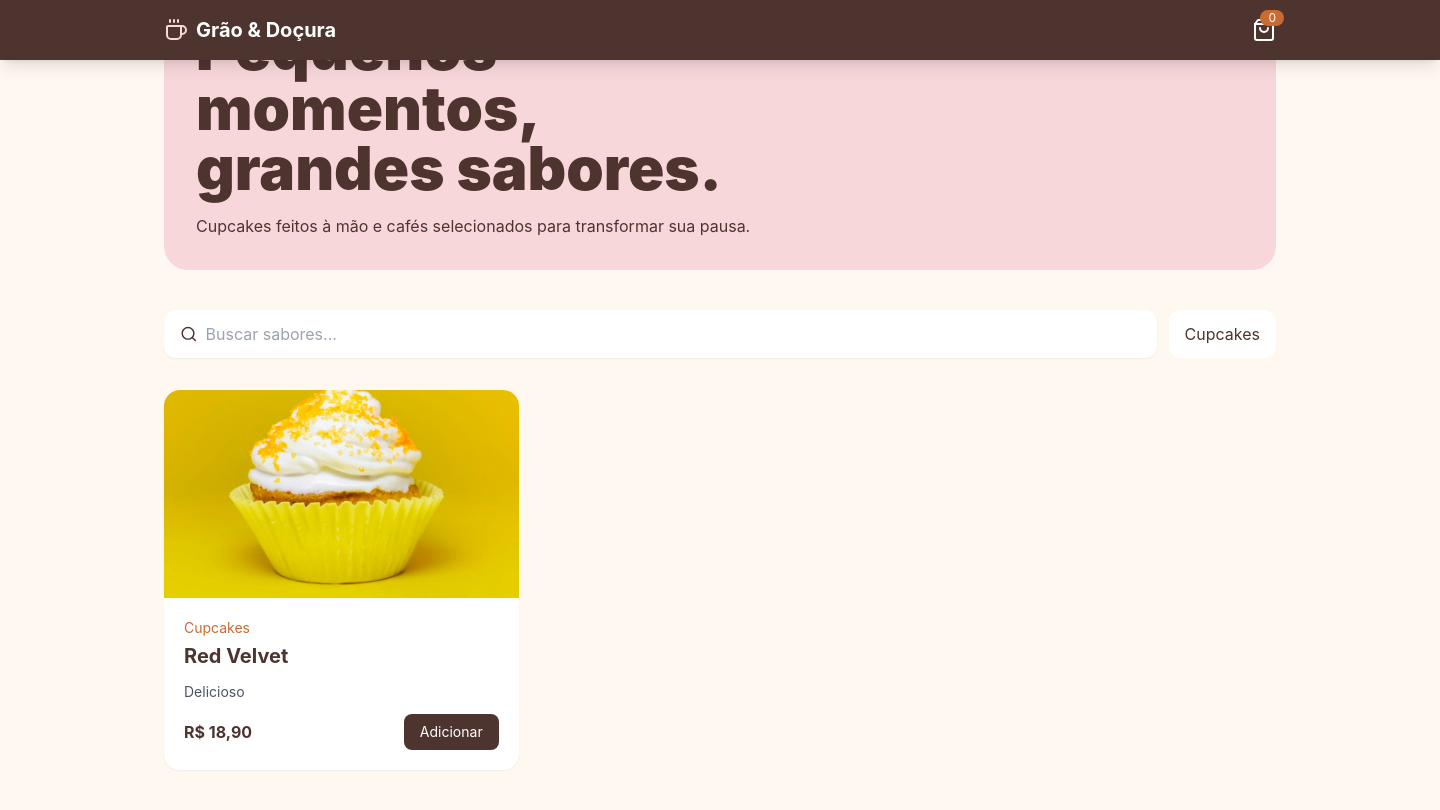
Scenario: customer storefront › changes and removes quantities from the cart
(page scrolled)
Click the button "Adicionar" at (451, 732), box [404, 714, 499, 750]
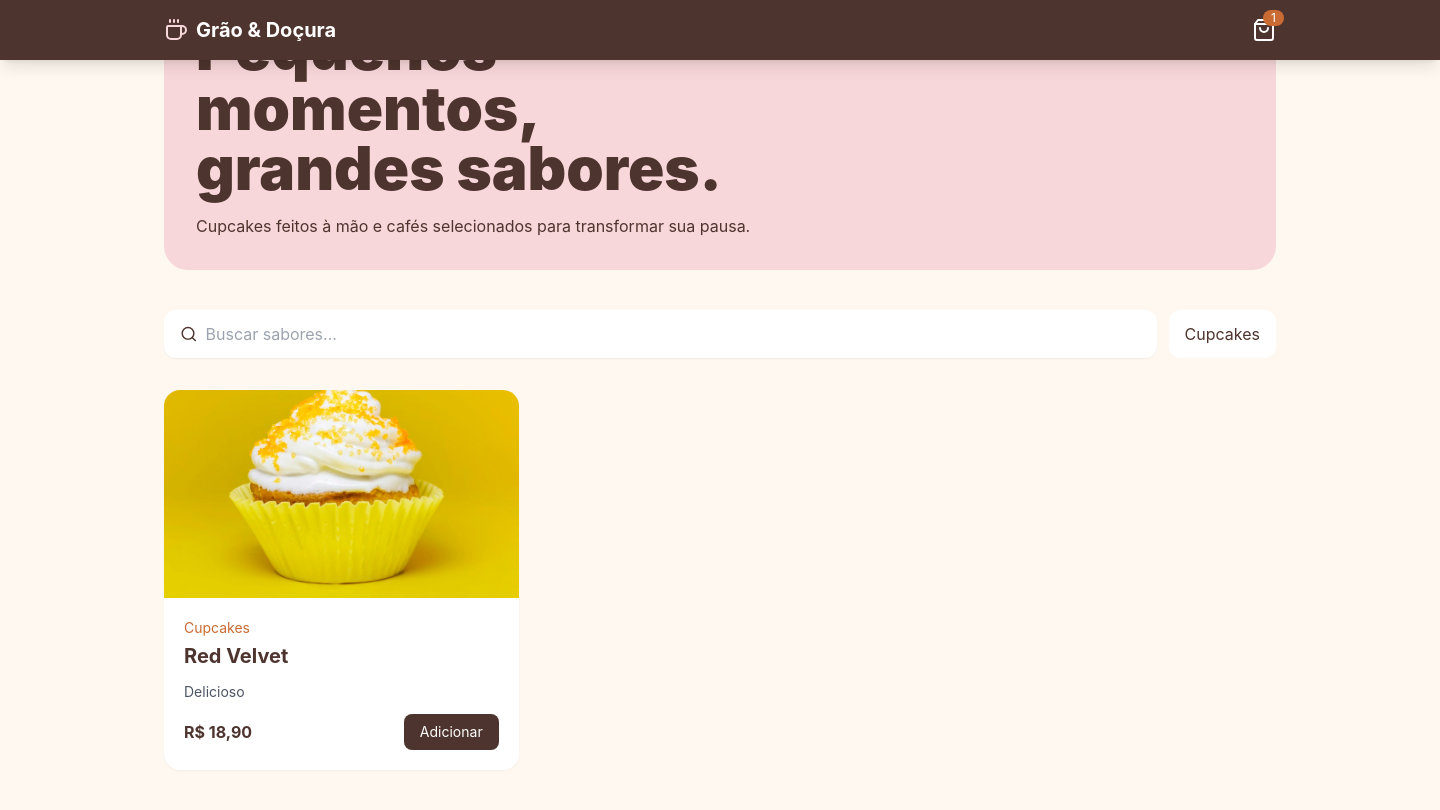
Click the button named "Abrir carrinho" at (1264, 30), box [1252, 18, 1276, 42]
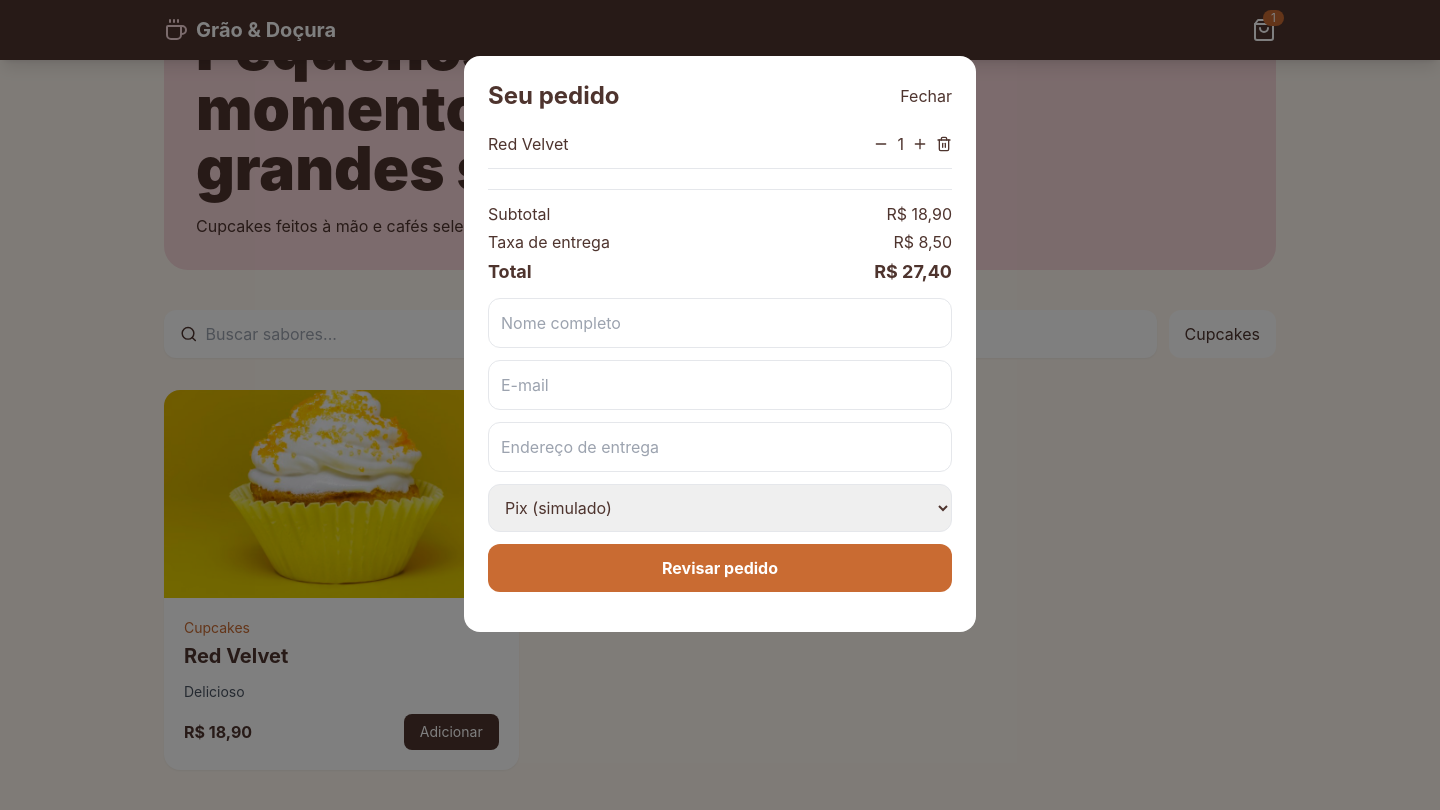
Click the button named "Aumentar Red Velvet" at (920, 144), box [912, 136, 928, 152]
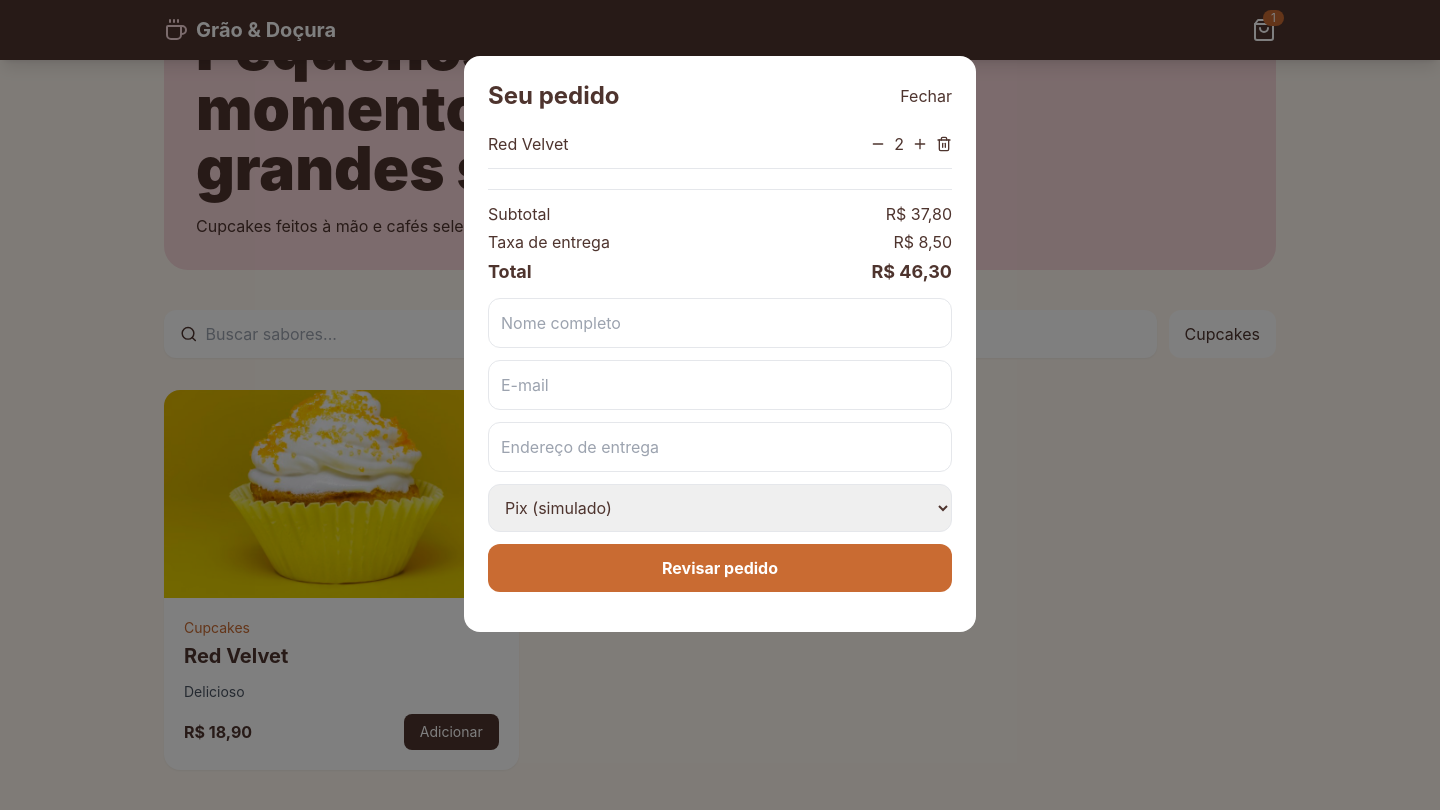
Result: the element showing "2" is shown at [870, 132, 952, 156]
Click the button named "Diminuir Red Velvet" at (878, 144), box [870, 136, 886, 152]
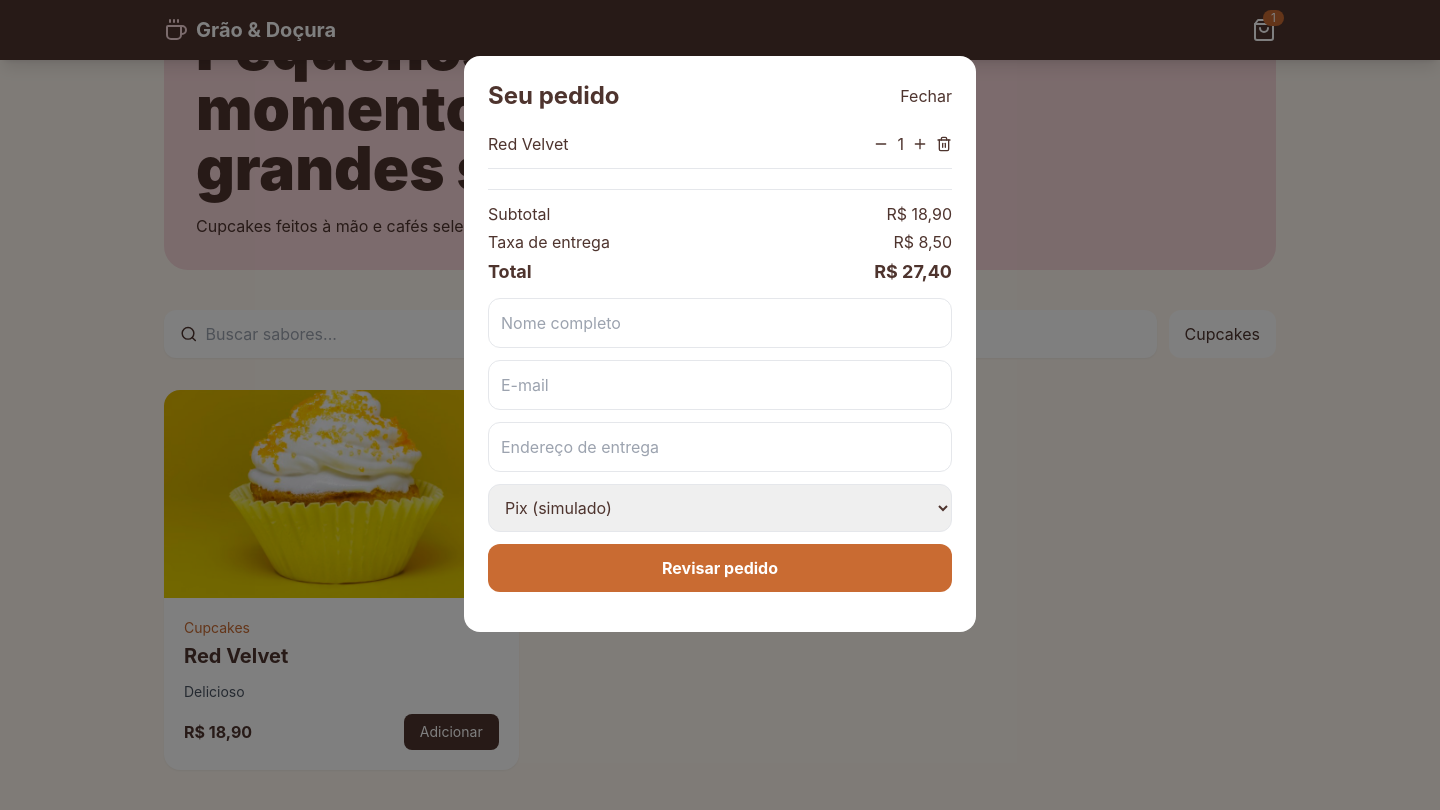
Result: the element showing "1" is shown at [874, 132, 952, 156]
Click the button named "Remover Red Velvet" at (944, 144), box [936, 136, 952, 152]
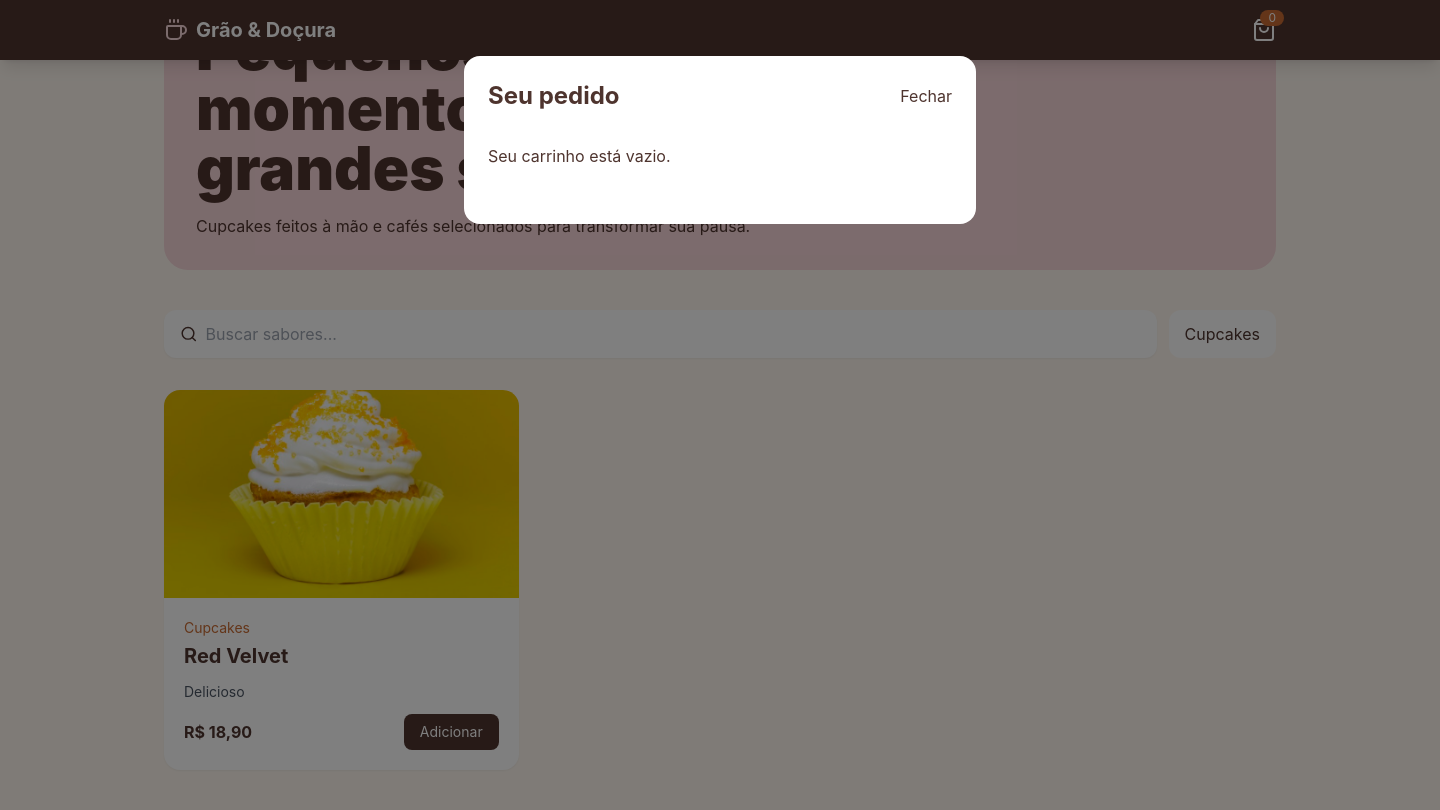
Result: the text "Seu carrinho está vazio." is shown at [488, 146, 671, 166]
